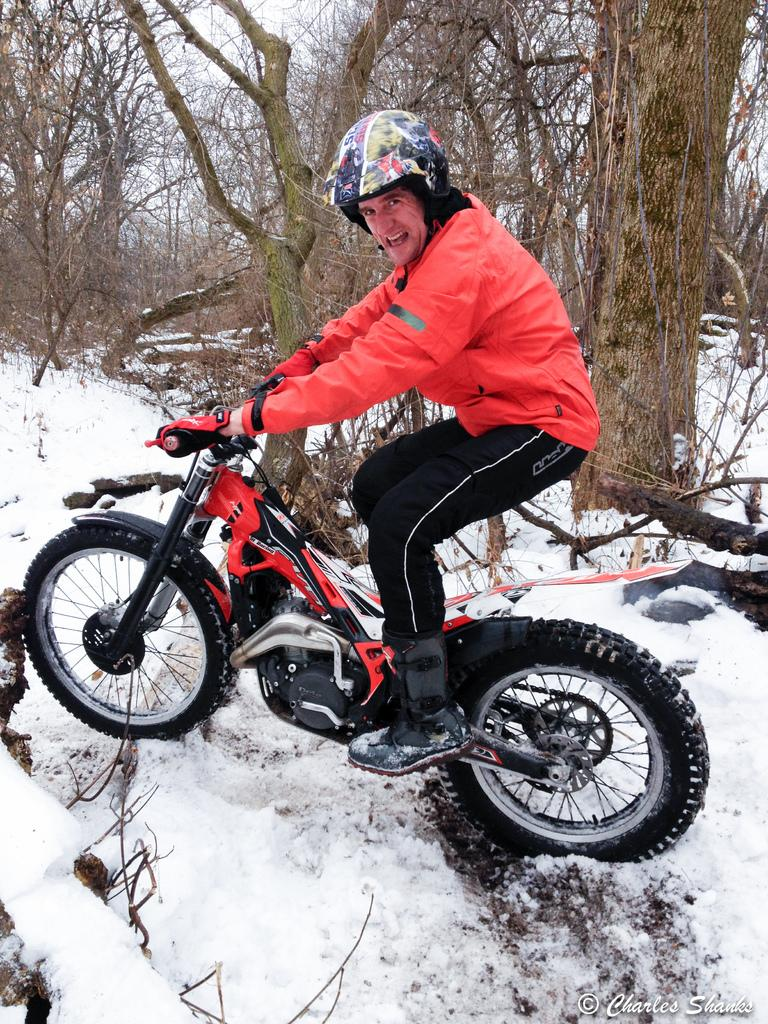helmet: (330, 109, 450, 265)
